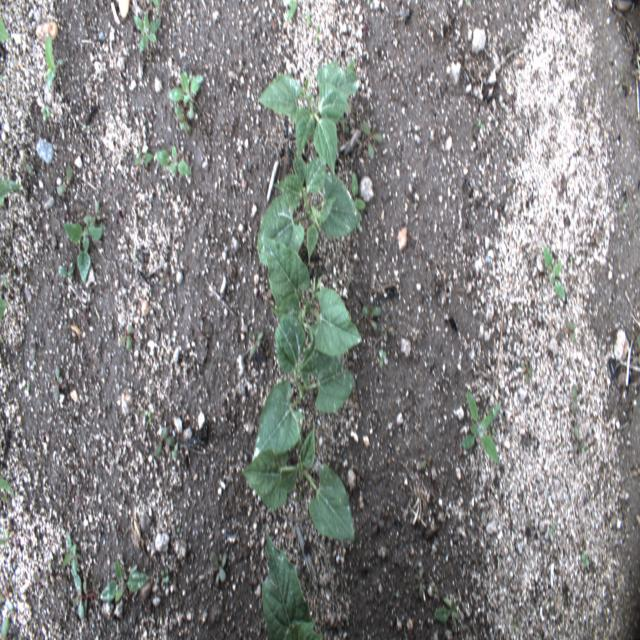crop: (251, 310, 354, 467), (242, 419, 354, 540), (256, 60, 360, 178), (262, 237, 361, 359), (257, 157, 360, 266), (260, 530, 324, 639)
weed: (63, 215, 105, 284), (462, 389, 501, 463), (99, 560, 150, 604), (170, 71, 207, 113), (542, 243, 566, 300), (346, 170, 366, 238), (44, 34, 65, 98), (156, 142, 192, 176), (73, 574, 99, 621), (132, 12, 160, 50), (434, 596, 461, 634), (362, 120, 386, 160), (0, 173, 23, 210), (61, 532, 77, 573), (156, 423, 174, 459), (362, 303, 382, 332), (212, 552, 228, 586), (248, 329, 263, 363), (57, 164, 74, 194), (51, 364, 63, 406), (133, 145, 154, 168), (175, 111, 194, 136), (380, 316, 396, 344), (120, 324, 134, 352), (0, 12, 12, 44), (21, 154, 36, 177), (89, 201, 101, 229), (520, 362, 533, 387), (414, 453, 432, 471), (571, 384, 579, 420), (566, 316, 576, 344), (286, 0, 297, 23), (418, 564, 425, 600), (41, 100, 51, 124), (59, 266, 75, 281), (378, 348, 389, 368), (0, 297, 9, 320), (1, 610, 8, 639), (160, 565, 168, 585), (151, 0, 162, 14), (303, 12, 312, 28), (635, 334, 639, 369), (314, 22, 320, 42), (582, 549, 588, 568), (511, 619, 519, 633), (478, 116, 485, 132), (549, 521, 555, 536), (617, 82, 623, 95), (568, 254, 574, 266), (26, 379, 31, 391)
